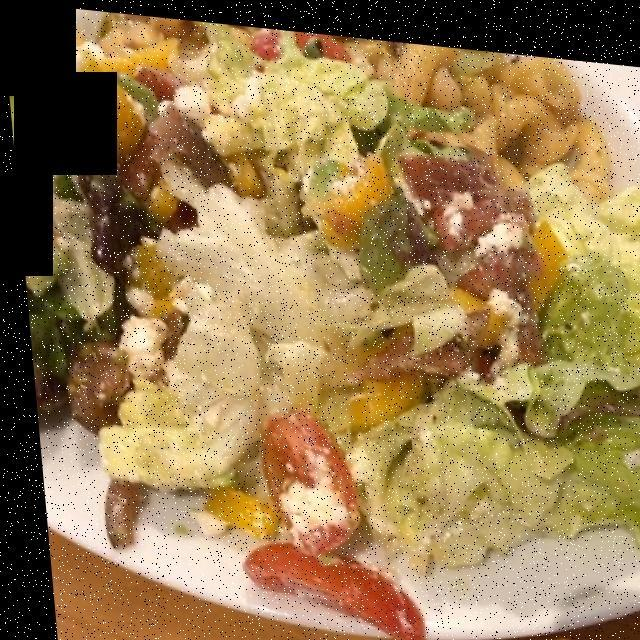cheese: (40, 46, 525, 525)
pasta: (49, 21, 613, 177)
salad: (5, 29, 640, 551)
tomato: (70, 99, 563, 640)
